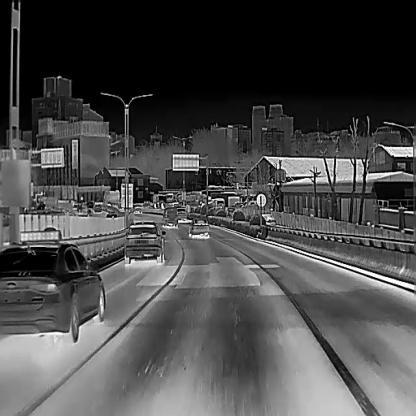car: (0, 239, 105, 344), (124, 225, 164, 264), (184, 218, 210, 238), (162, 206, 177, 226), (261, 211, 276, 227), (176, 208, 186, 220), (94, 203, 101, 211)
